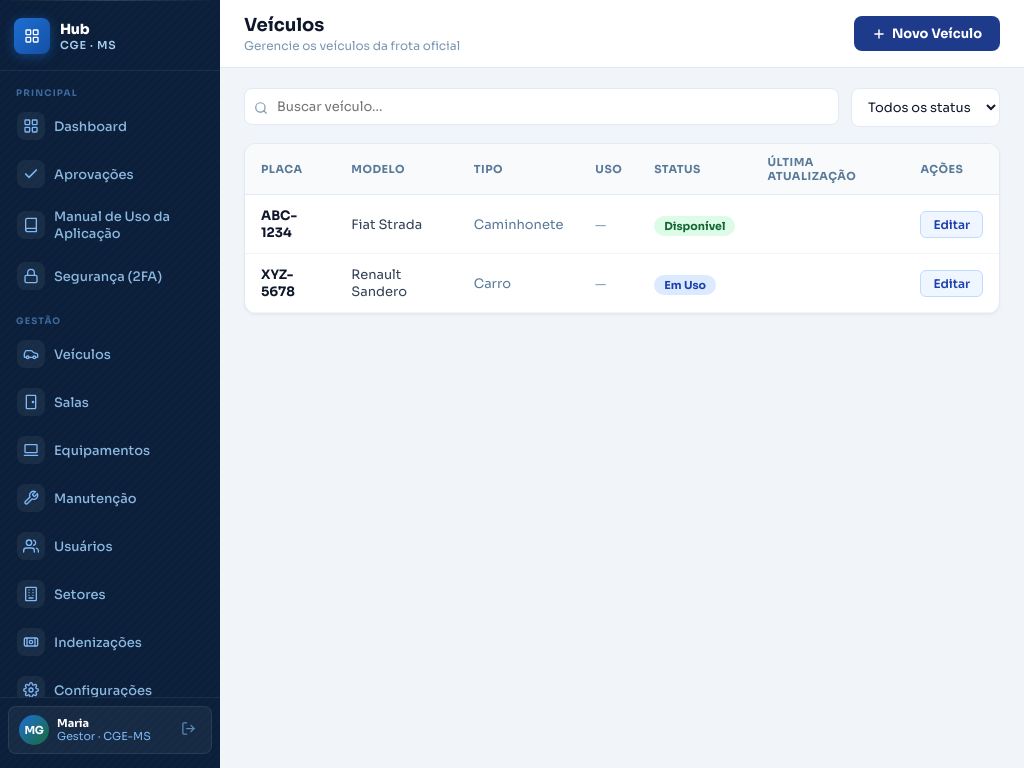
Test: Veiculos — modal Novo Veículo › clicar Novo Veículo abre modal
The width and height of the screenshot is (1024, 768).
Step 1. Click the button "Novo Veículo" → {"x": 927, "y": 34}, box [854, 16, 1000, 51]
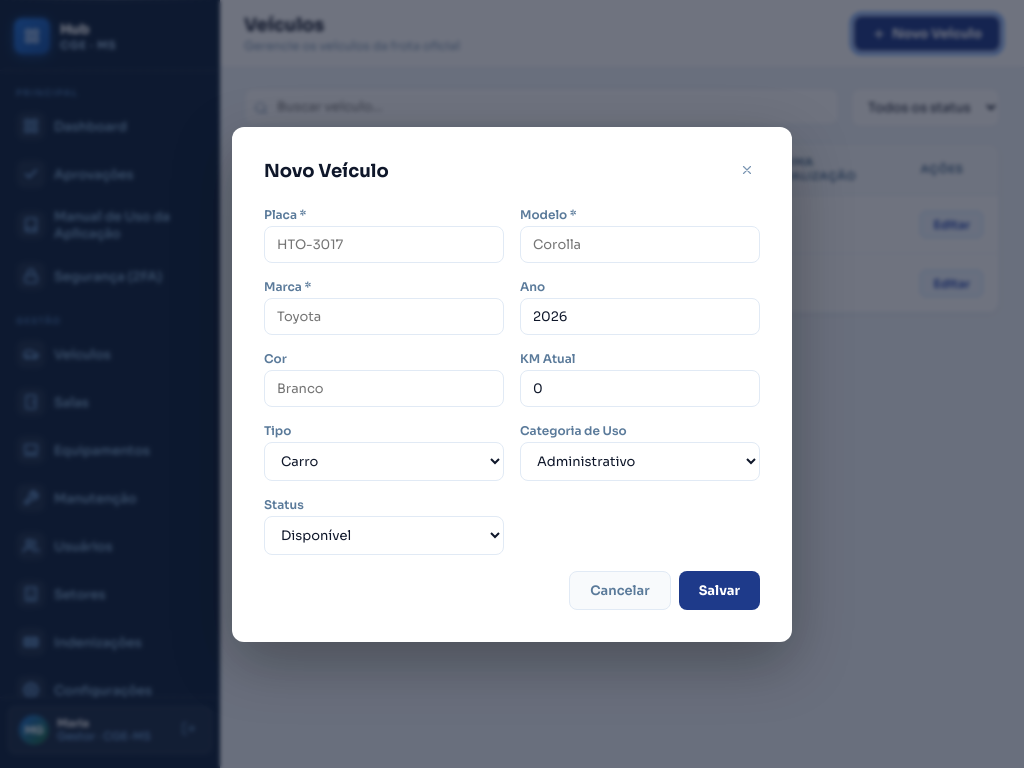
Check: the field with placeholder "HTO-3017" is shown, box [264, 226, 504, 262]
